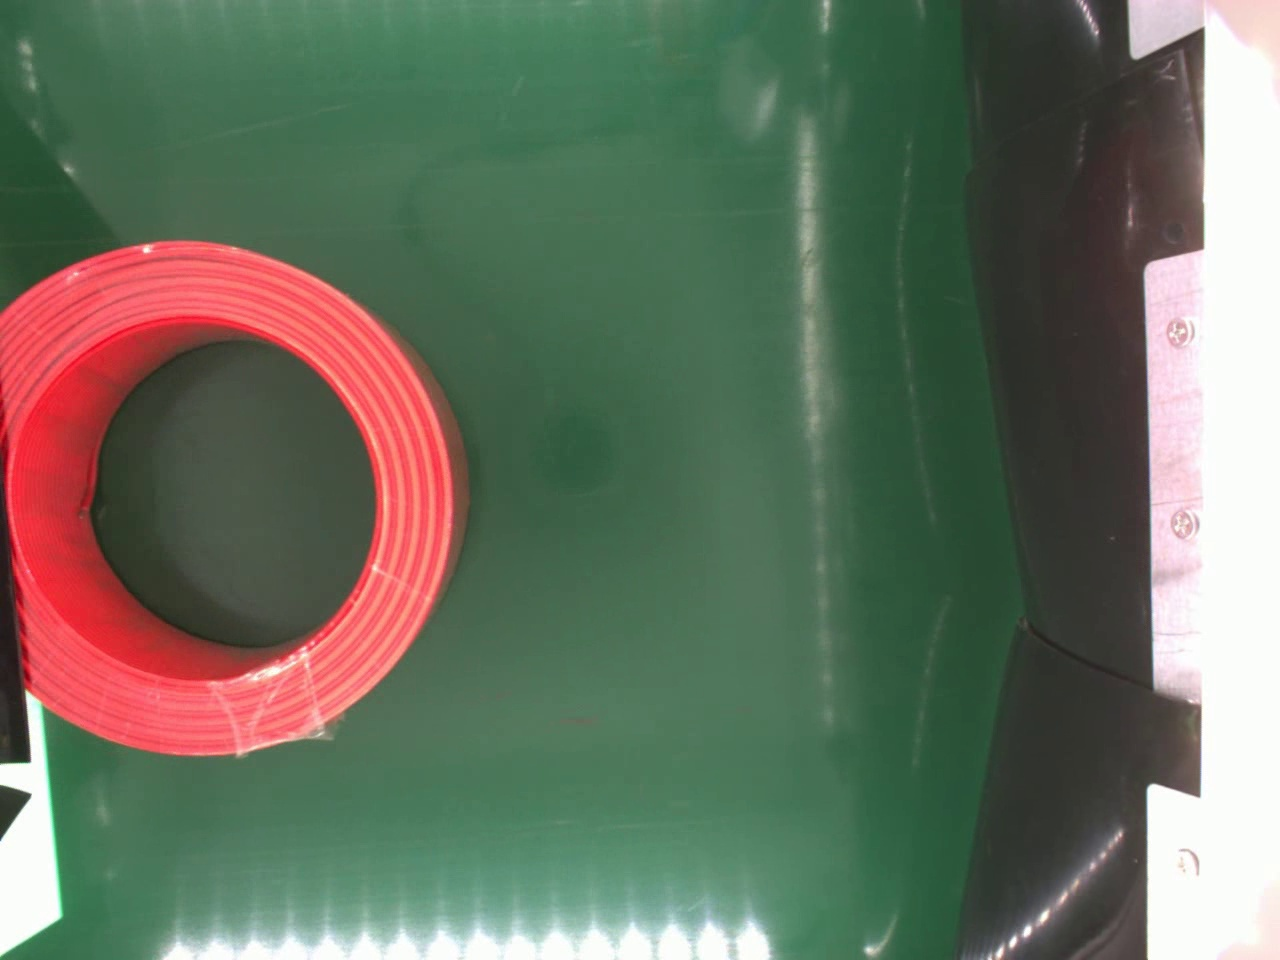red: (0, 236, 467, 762)
